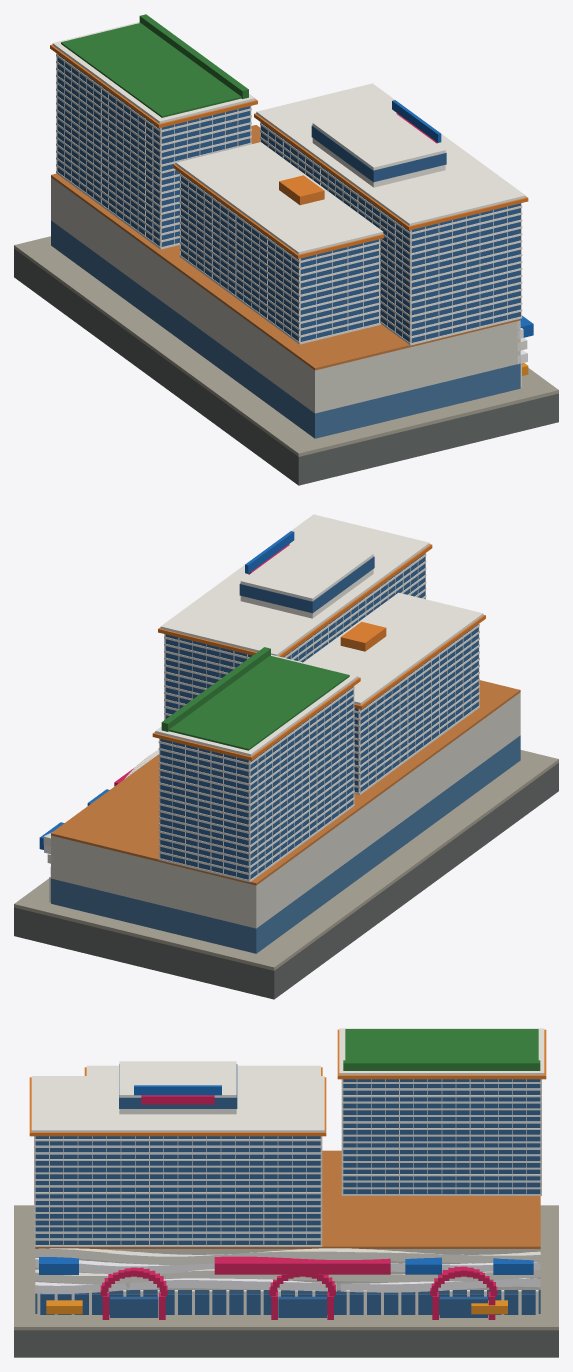
The model's file is aeon_danang_v3.obj.
3 renders of one model, top to bottom at view 1: azimuth 30°, elevation 25°; view 2: azimuth 150°, elevation 25°; view 3: azimuth 270°, elevation 25°, orthographic. The views are drawn at different scales.
Parts seen in each view (by area): view 1: slab, window, podium, ground, walk, glass, green, wall, terrace, roof, pool; view 2: slab, window, podium, ground, walk, glass, terrace, green, wall, roof, pool; view 3: window, slab, ground, wall, terrace, walk, green, arch, band, roof, pool, podium (+2 smaller).
Part boxes in pixels (x1,y1,x2,y2): slab: (52,22,525,345); window: (57,54,520,342); podium: (51,177,520,413); ground: (14,249,558,485); walk: (14,236,558,456); glass: (51,220,520,438); green: (61,14,248,117); wall: (56,53,527,387); terrace: (51,125,520,370); roof: (50,44,528,258); pool: (392,100,533,337); slab: (155,514,483,882); window: (160,554,478,879); podium: (51,692,520,928); ground: (14,763,558,999); walk: (14,750,558,970); glass: (51,735,520,953); terrace: (51,680,520,885); green: (161,647,349,750); wall: (43,553,479,902); roof: (152,544,485,760); pool: (39,531,294,849); window: (35,1064,540,1317); slab: (31,1028,544,1246); ground: (14,1330,558,1357); wall: (34,1079,541,1315); terrace: (35,1150,540,1248); walk: (14,1205,558,1330); green: (343,1029,540,1070); arch: (100,1095,497,1319); band: (35,1258,540,1293); roof: (29,1029,546,1136); pool: (39,1085,533,1274); podium: (35,1249,540,1289).
Size of the model in its own units: 0.95 by 0.893 by 1.8.
